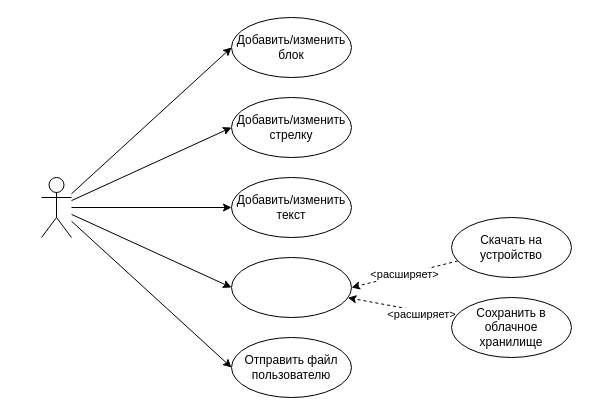
Image size: 589x415. Some labels were removed from this diagram. The box of each missing label's shape, as (x1, y1, x2, y2) in pixels:
Пользователь: (40, 176, 72, 238)
Экспортировать в pdf/png: (230, 256, 352, 318)
